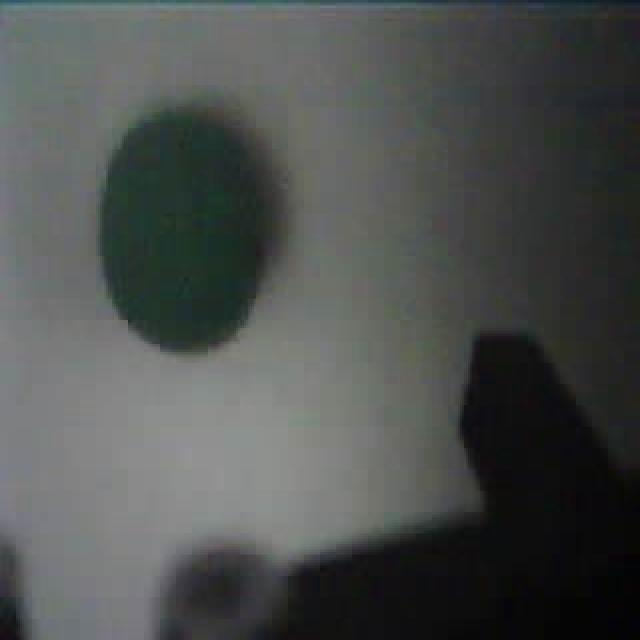green_ball: (96, 101, 278, 358)
